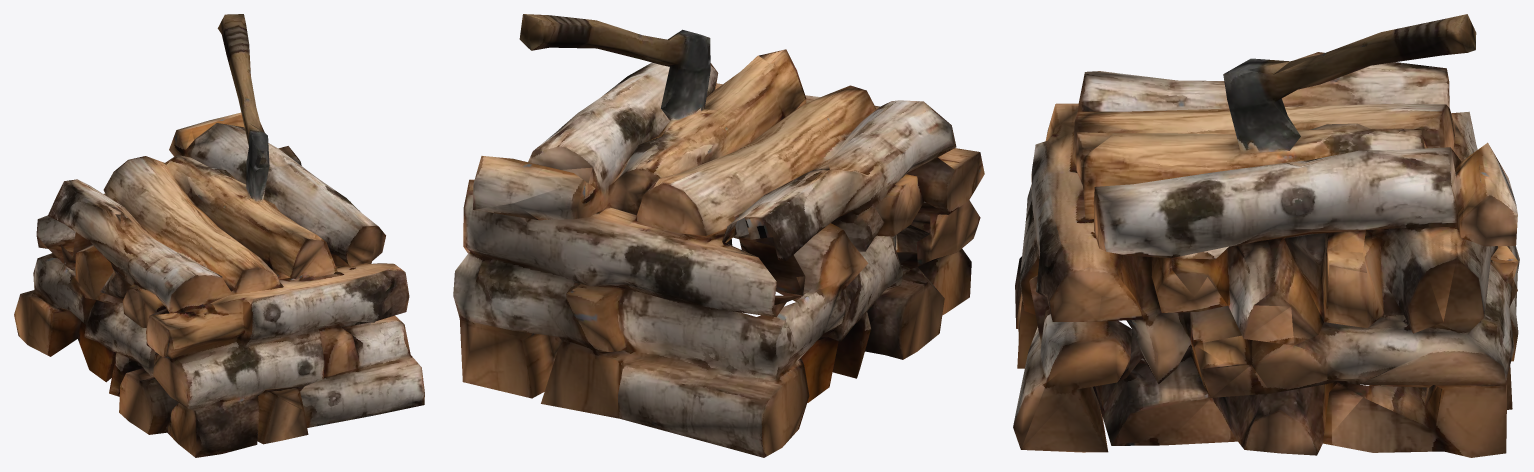
Rendered from firewood.glb.
The picture shows the model from 3 angles, left to right: view 1: azimuth 30°, elevation 25°; view 2: azimuth 150°, elevation 25°; view 3: azimuth 270°, elevation 25°; orthographic projection. The views are drawn at different scales.
Visible parts, largest first — view 1: firewood.raw; view 2: firewood.raw; view 3: firewood.raw.
Part boxes in pixels (x1,y1,x2,y2): firewood.raw: [14, 14, 424, 457]; firewood.raw: [453, 14, 984, 457]; firewood.raw: [1013, 14, 1519, 457].
Bounding box in the file's own units: 0.5774 × 0.6 × 0.6777.
Materials: 1 (1 with a texture image).
